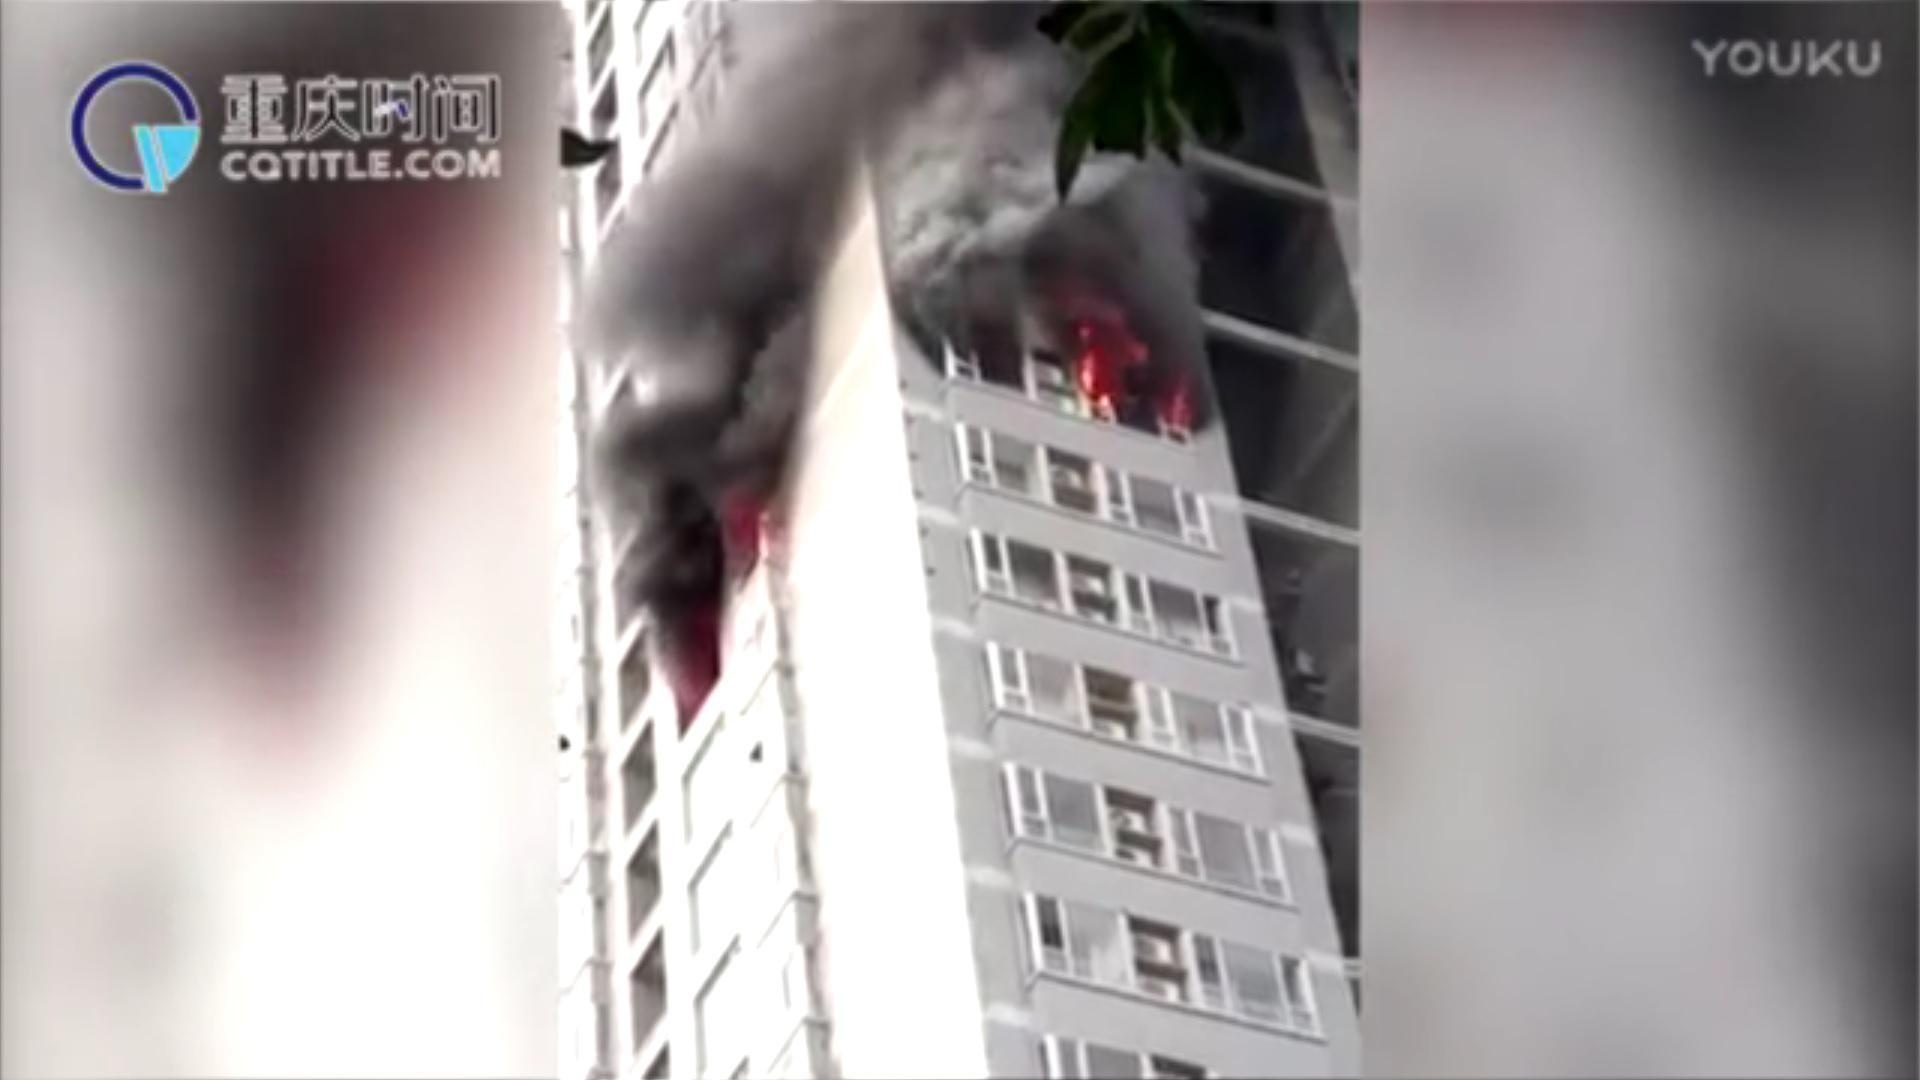fire: (1063, 318, 1204, 429)
